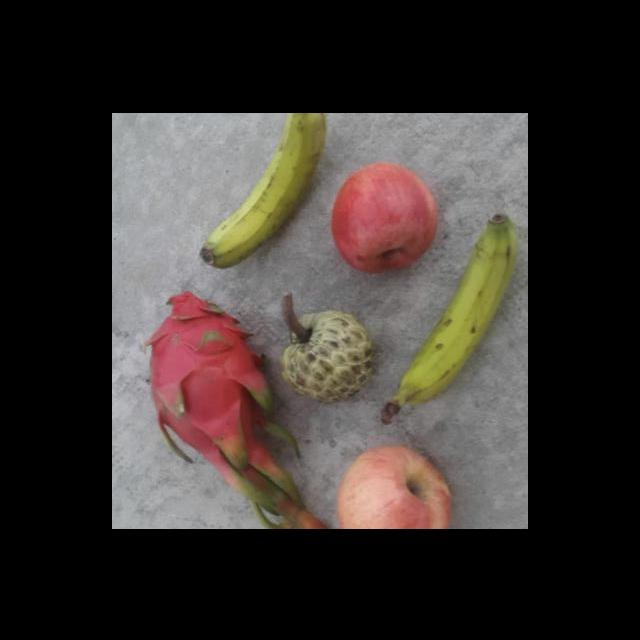Sakya fruit: (274, 298, 376, 404)
apple: (331, 162, 443, 276), (324, 435, 456, 528)
banana: (380, 199, 519, 421), (198, 112, 332, 269)
pitaya: (138, 284, 278, 474)
